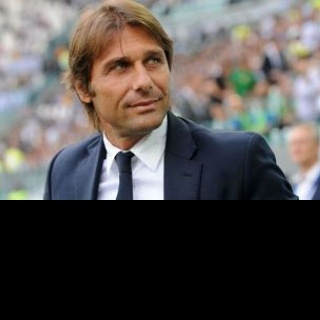without_mask: (90, 25, 171, 132)
